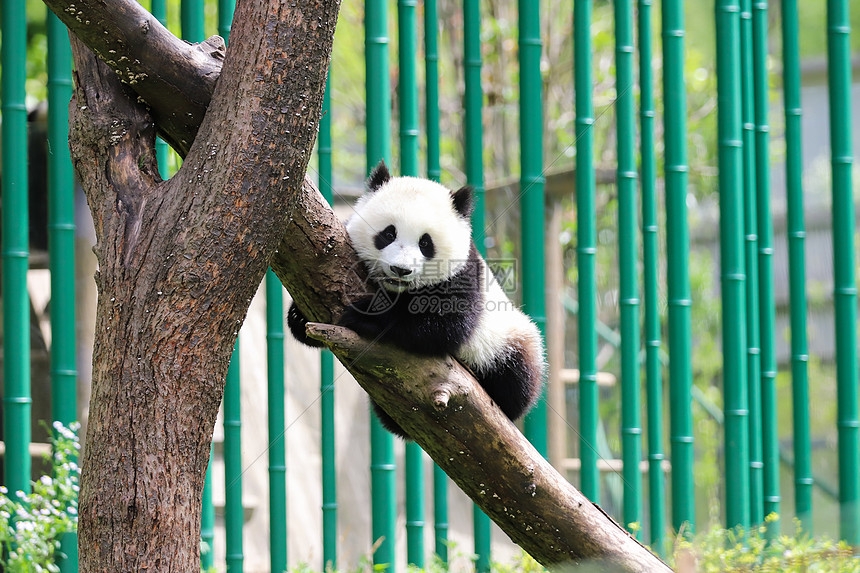panda: (297, 157, 575, 457)
